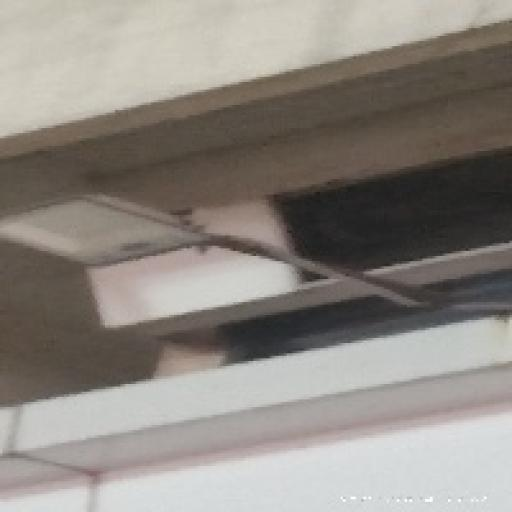Not Working: (0, 177, 223, 302)
